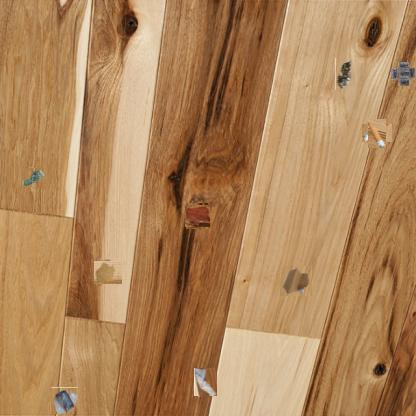dirty: (280, 266, 312, 296), (50, 387, 78, 414), (194, 368, 217, 396), (335, 58, 354, 90), (366, 121, 390, 145), (20, 167, 44, 187), (394, 65, 412, 83)
liquid: (95, 259, 121, 285), (185, 204, 209, 228)
